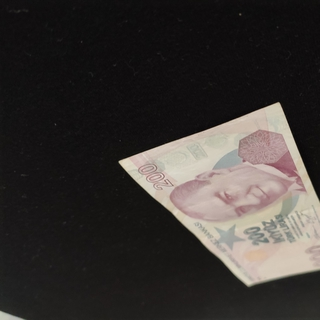200TLFront: (118, 101, 320, 289)
